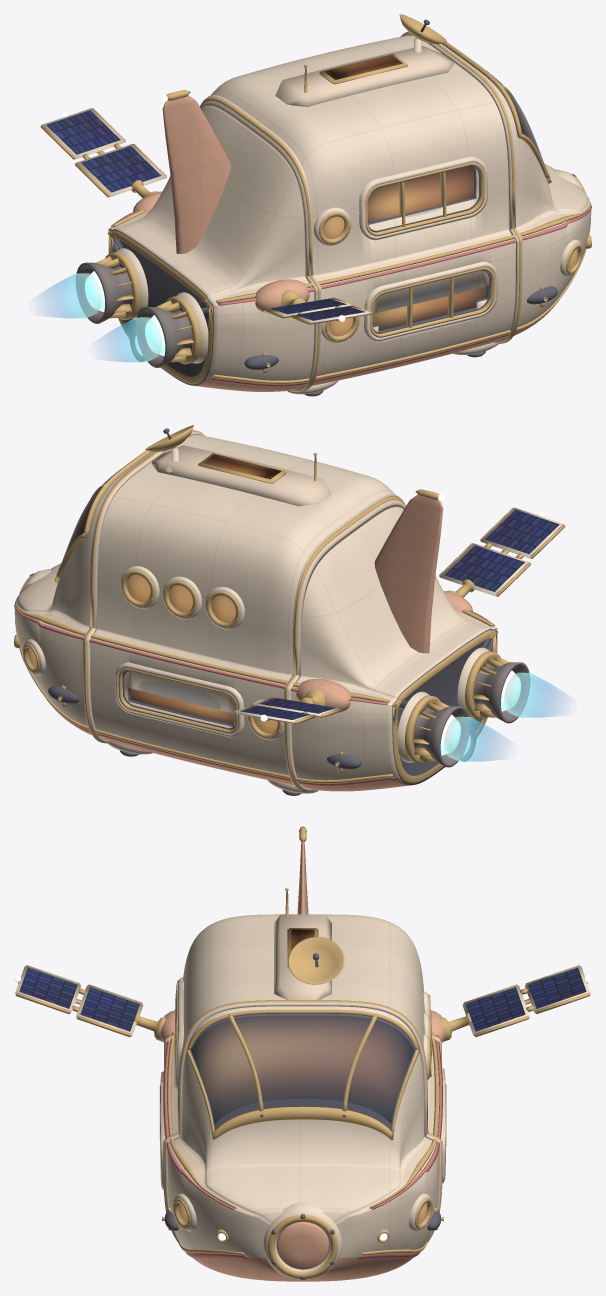
The model's file is spacecraft-hull.glb.
The picture shows the model from 3 angles, top to bottom: view 1: azimuth 30°, elevation 25°; view 2: azimuth 150°, elevation 25°; view 3: azimuth 270°, elevation 25°; orthographic projection. The views are drawn at different scales.
Parts seen in each view (by area): view 1: Hull_MainBody, Hull_DorsalTailFin, Dorsal_RoofSpine, Stern_BulkheadPlate, Viewport_UpperFrontBay_Glass, Viewport_UpperFrontBay_WarmGlow, Viewport_FrontBay_Glass, Hull_Collar_Aft, Thruster_Plume_L, Thruster_Plume_R, SolarWing_BayInner_Starboard_Cells, Hull_Collar_Fore (+33 smaller); view 2: Hull_MainBody, Hull_DorsalTailFin, Dorsal_RoofSpine, Stern_BulkheadPlate, Hull_Collar_Aft, Viewport_BackPanorama_Glass, Thruster_Plume_L, Thruster_Plume_R, SolarWing_BayInner_Port_Cells, Thruster_Bell_R, Thruster_Bell_L, Hull_Collar_Fore (+36 smaller); view 3: Hull_MainBody, BowCanopy_Glass, BowCanopy_WarmGlow, BowCanopy_BrassFrame, Dorsal_RoofSpine, Hull_Collar_Fore, BowCanopy_SlateFrame, Comms_ParabolicDish, Bow_DockingHatch, Hull_InterDeckBrassBelt, Hull_InterDeckRoseBand, SolarWing_BayInner_Port_Cells (+9 smaller).
Boxes of the visible parts, x1,y1,x2,y2 form: Hull_MainBody: (108, 35, 591, 391); Hull_DorsalTailFin: (162, 95, 231, 253); Dorsal_RoofSpine: (275, 46, 454, 106); Stern_BulkheadPlate: (107, 230, 213, 384); Viewport_UpperFrontBay_Glass: (368, 166, 475, 224); Viewport_UpperFrontBay_WarmGlow: (367, 166, 474, 222); Viewport_FrontBay_Glass: (373, 281, 488, 331); Hull_Collar_Aft: (200, 95, 321, 391); Thruster_Plume_L: (100, 317, 161, 362); Thruster_Plume_R: (40, 273, 101, 318); SolarWing_BayInner_Starboard_Cells: (81, 146, 161, 192); Hull_Collar_Fore: (400, 32, 522, 343); Hull_MainBody: (14, 434, 497, 791); Hull_DorsalTailFin: (374, 494, 443, 653); Dorsal_RoofSpine: (151, 445, 330, 506); Stern_BulkheadPlate: (392, 629, 498, 783); Hull_Collar_Aft: (284, 494, 405, 791); Viewport_BackPanorama_Glass: (128, 681, 233, 725); Thruster_Plume_L: (504, 672, 566, 717); Thruster_Plume_R: (444, 716, 505, 761); SolarWing_BayInner_Port_Cells: (445, 545, 524, 591); Thruster_Bell_R: (413, 706, 469, 767); Thruster_Bell_L: (473, 662, 529, 723); Hull_Collar_Fore: (83, 432, 205, 742); Hull_MainBody: (166, 914, 439, 1281); BowCanopy_Glass: (190, 1014, 415, 1125); BowCanopy_WarmGlow: (191, 1015, 414, 1123); BowCanopy_BrassFrame: (186, 1009, 419, 1140); Dorsal_RoofSpine: (274, 914, 331, 1000); Hull_Collar_Fore: (164, 1002, 441, 1240); BowCanopy_SlateFrame: (191, 1013, 414, 1130); Comms_ParabolicDish: (288, 937, 344, 984); Bow_DockingHatch: (276, 1222, 329, 1269); Hull_InterDeckBrassBelt: (167, 1032, 438, 1208); Hull_InterDeckRoseBand: (163, 1034, 442, 1209); SolarWing_BayInner_Port_Cells: (80, 987, 139, 1031).
Size of the model in its own units: 21.91 by 12.11 by 20.07.
Materials: 16 (5 with a texture image).
